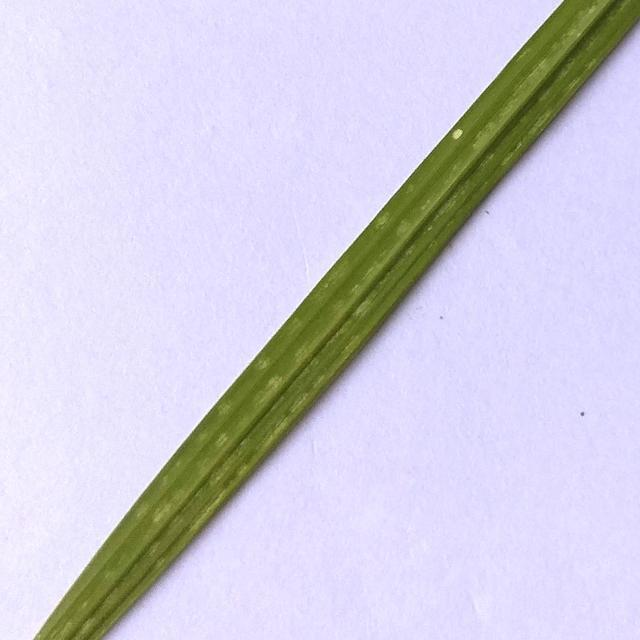Blast: (452, 127, 466, 142)
